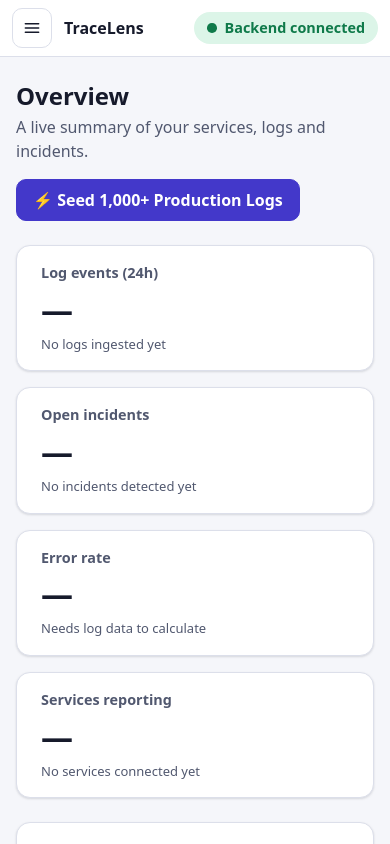
it: App shell › opens the navigation drawer and closes it with Escape
Click the button named "Open navigation" at point(32, 28), box [12,8,52,48]
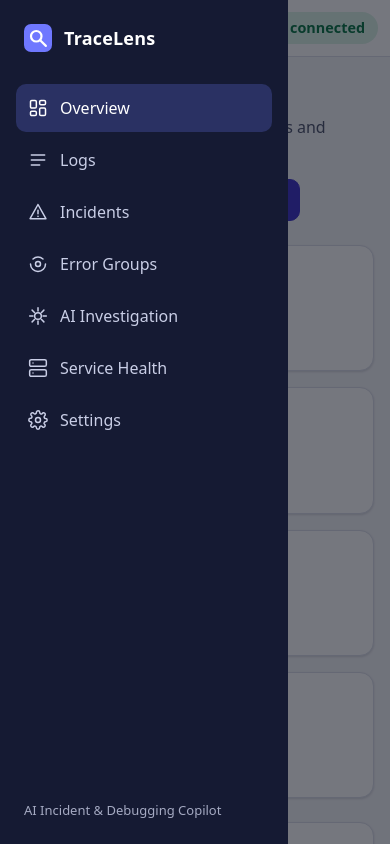
expect the button named "Close navigation" is expanded: met, box [12,8,52,48]
Press Escape
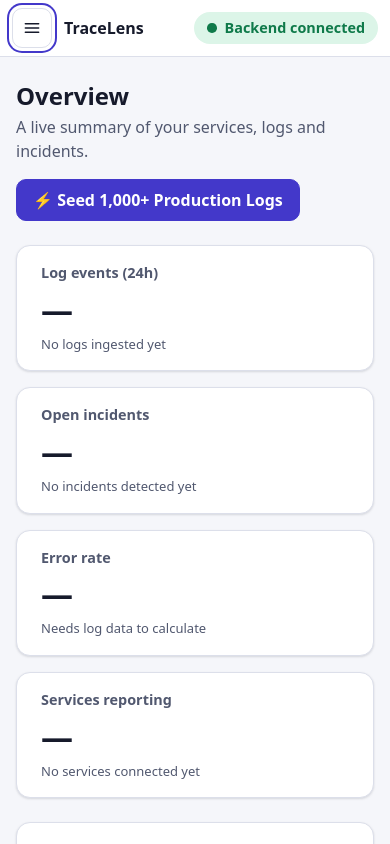
expect the button named "Open navigation" is collapsed: met, box [12,8,52,48]
